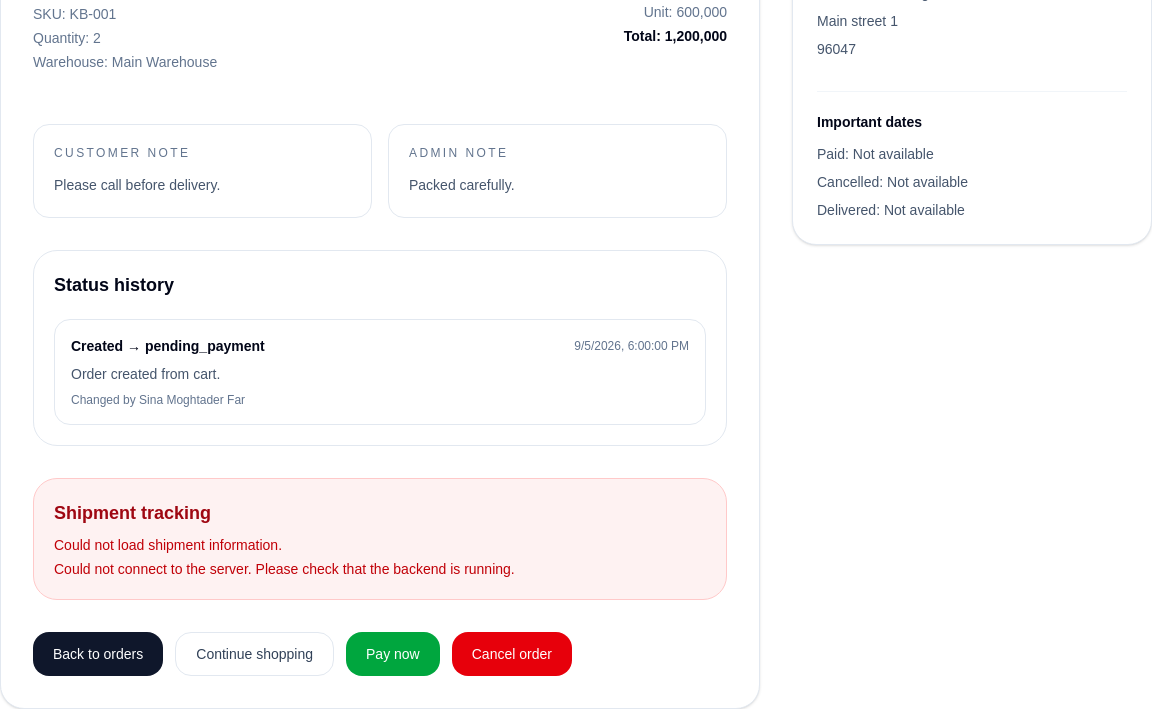
Test: OrderDetail › shows cancel error without replacing the loaded order
The width and height of the screenshot is (1152, 709).
(page scrolled)
Click the button "Cancel order" at (512, 654), box [452, 632, 572, 676]
(page scrolled)
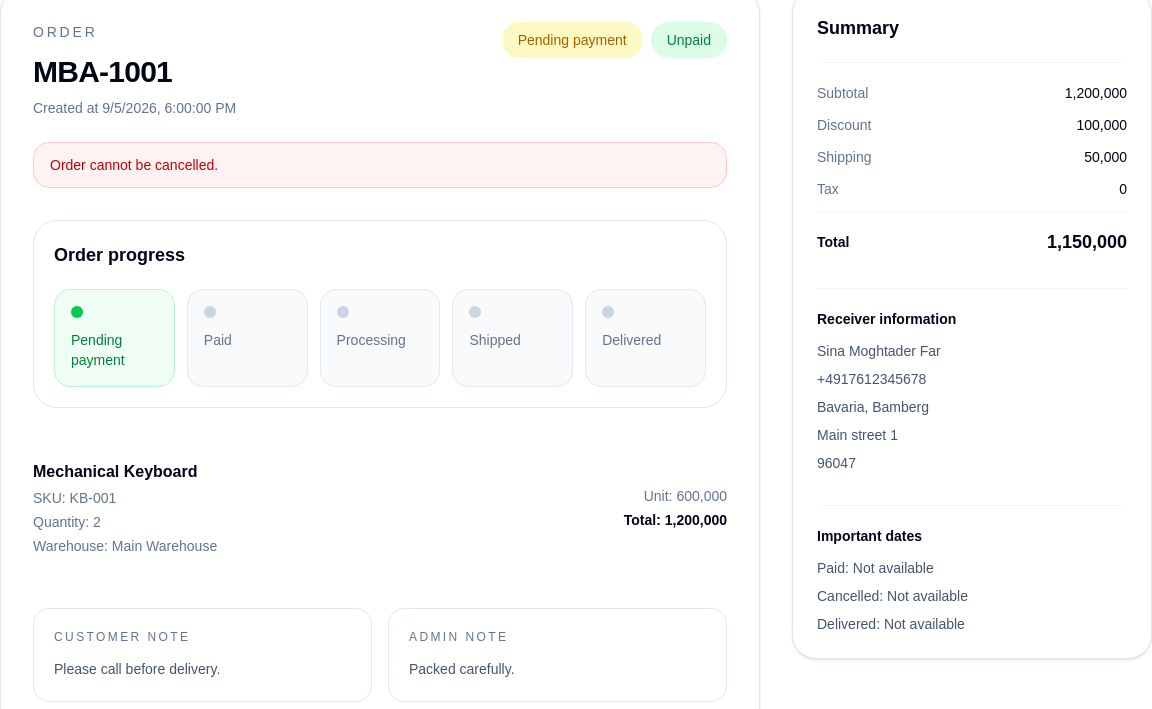
expect the heading "MBA-1001" is shown: met, box [33, 55, 172, 88]
expect the text "Order cannot be cancelled." is shown: met, box [33, 142, 727, 188]
